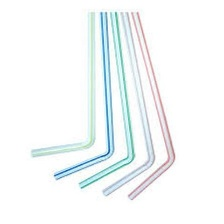drinking_straw: (26, 9, 102, 161), (124, 10, 180, 202)
